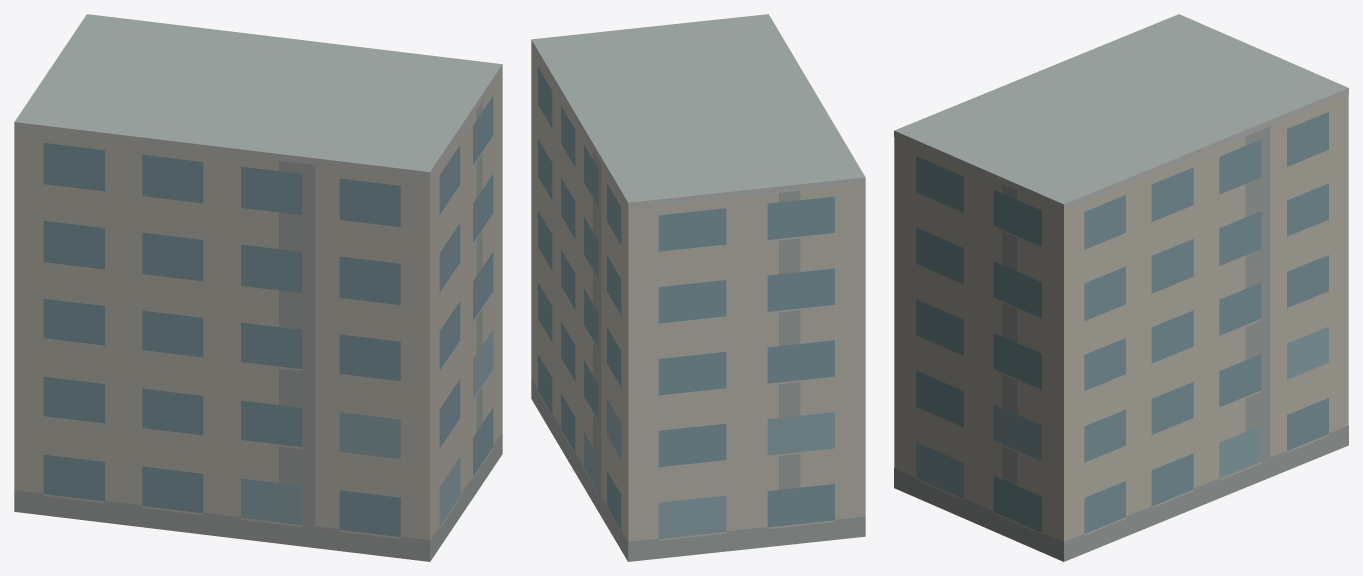
File: survey-upis-32849459.glb
The picture shows the model from 3 angles, left to right: view 1: azimuth 30°, elevation 25°; view 2: azimuth 150°, elevation 25°; view 3: azimuth 270°, elevation 25°; orthographic projection. The views are drawn at different scales.
Parts seen in each view (by area): view 1: survey-upis-32849459.tmp; view 2: survey-upis-32849459.tmp; view 3: survey-upis-32849459.tmp.
Part boxes in pixels (bbox=[...]): survey-upis-32849459.tmp: bbox=[14, 14, 502, 561]; survey-upis-32849459.tmp: bbox=[531, 14, 865, 561]; survey-upis-32849459.tmp: bbox=[894, 14, 1348, 561].
Size of the model in its own units: 15.59 by 13.64 by 15.73.
